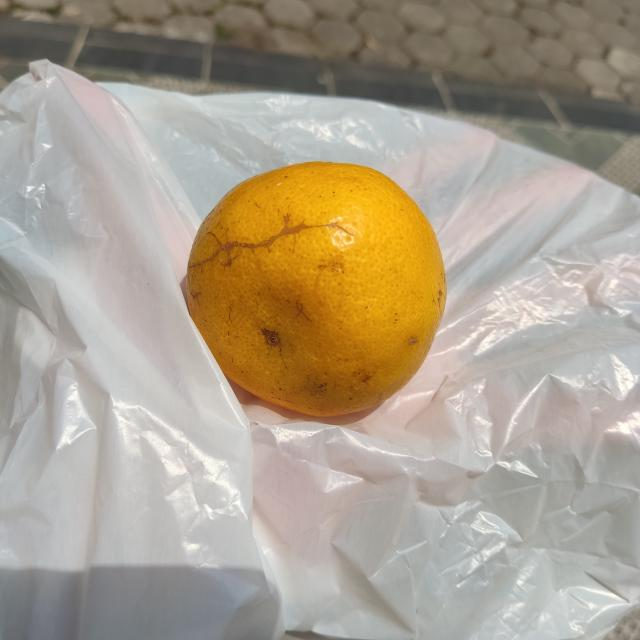orange: (178, 158, 450, 423)
